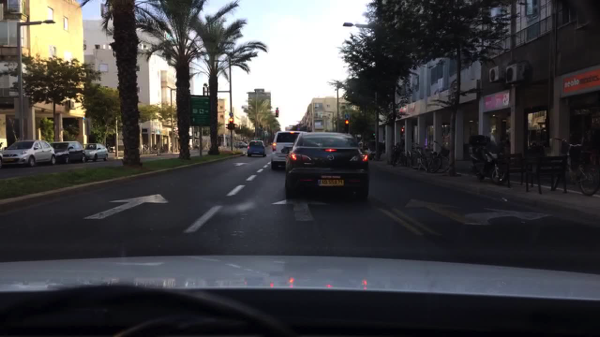bike: (551, 136, 599, 196), (419, 149, 442, 174), (425, 151, 449, 173), (408, 144, 428, 170), (391, 148, 408, 167), (398, 151, 412, 168)
car: (283, 132, 369, 201), (1, 140, 57, 169), (270, 130, 309, 171), (50, 140, 88, 166), (81, 142, 109, 163), (361, 141, 383, 161), (246, 140, 266, 158), (234, 140, 248, 149)
motor: (468, 143, 510, 185)
traffic light: (275, 110, 279, 118), (344, 120, 350, 125), (230, 118, 234, 122)
traffic sign: (189, 96, 212, 126), (343, 113, 350, 119), (228, 112, 233, 117), (275, 107, 279, 111)
